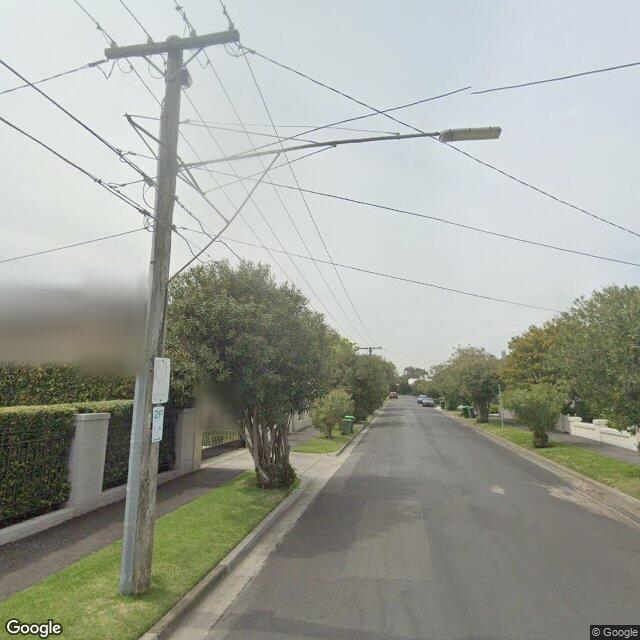crossarm: (104, 29, 241, 58), (357, 347, 382, 349)
streetlight: (175, 127, 502, 168)
timber-pole: (124, 36, 183, 598)
